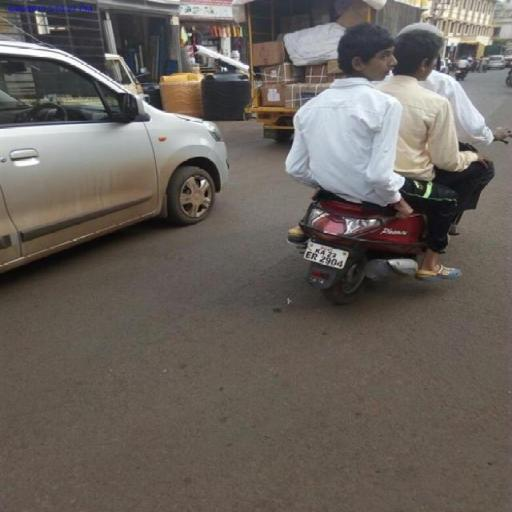tripple riding: (276, 24, 512, 198)
